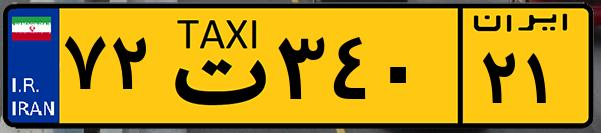0: (385, 28, 445, 110)
1: (525, 38, 570, 115)
2: (475, 38, 525, 113), (110, 28, 158, 98)
3: (270, 28, 330, 110)
4: (330, 28, 385, 110)
7: (57, 26, 110, 100)
ت: (158, 12, 270, 120)
